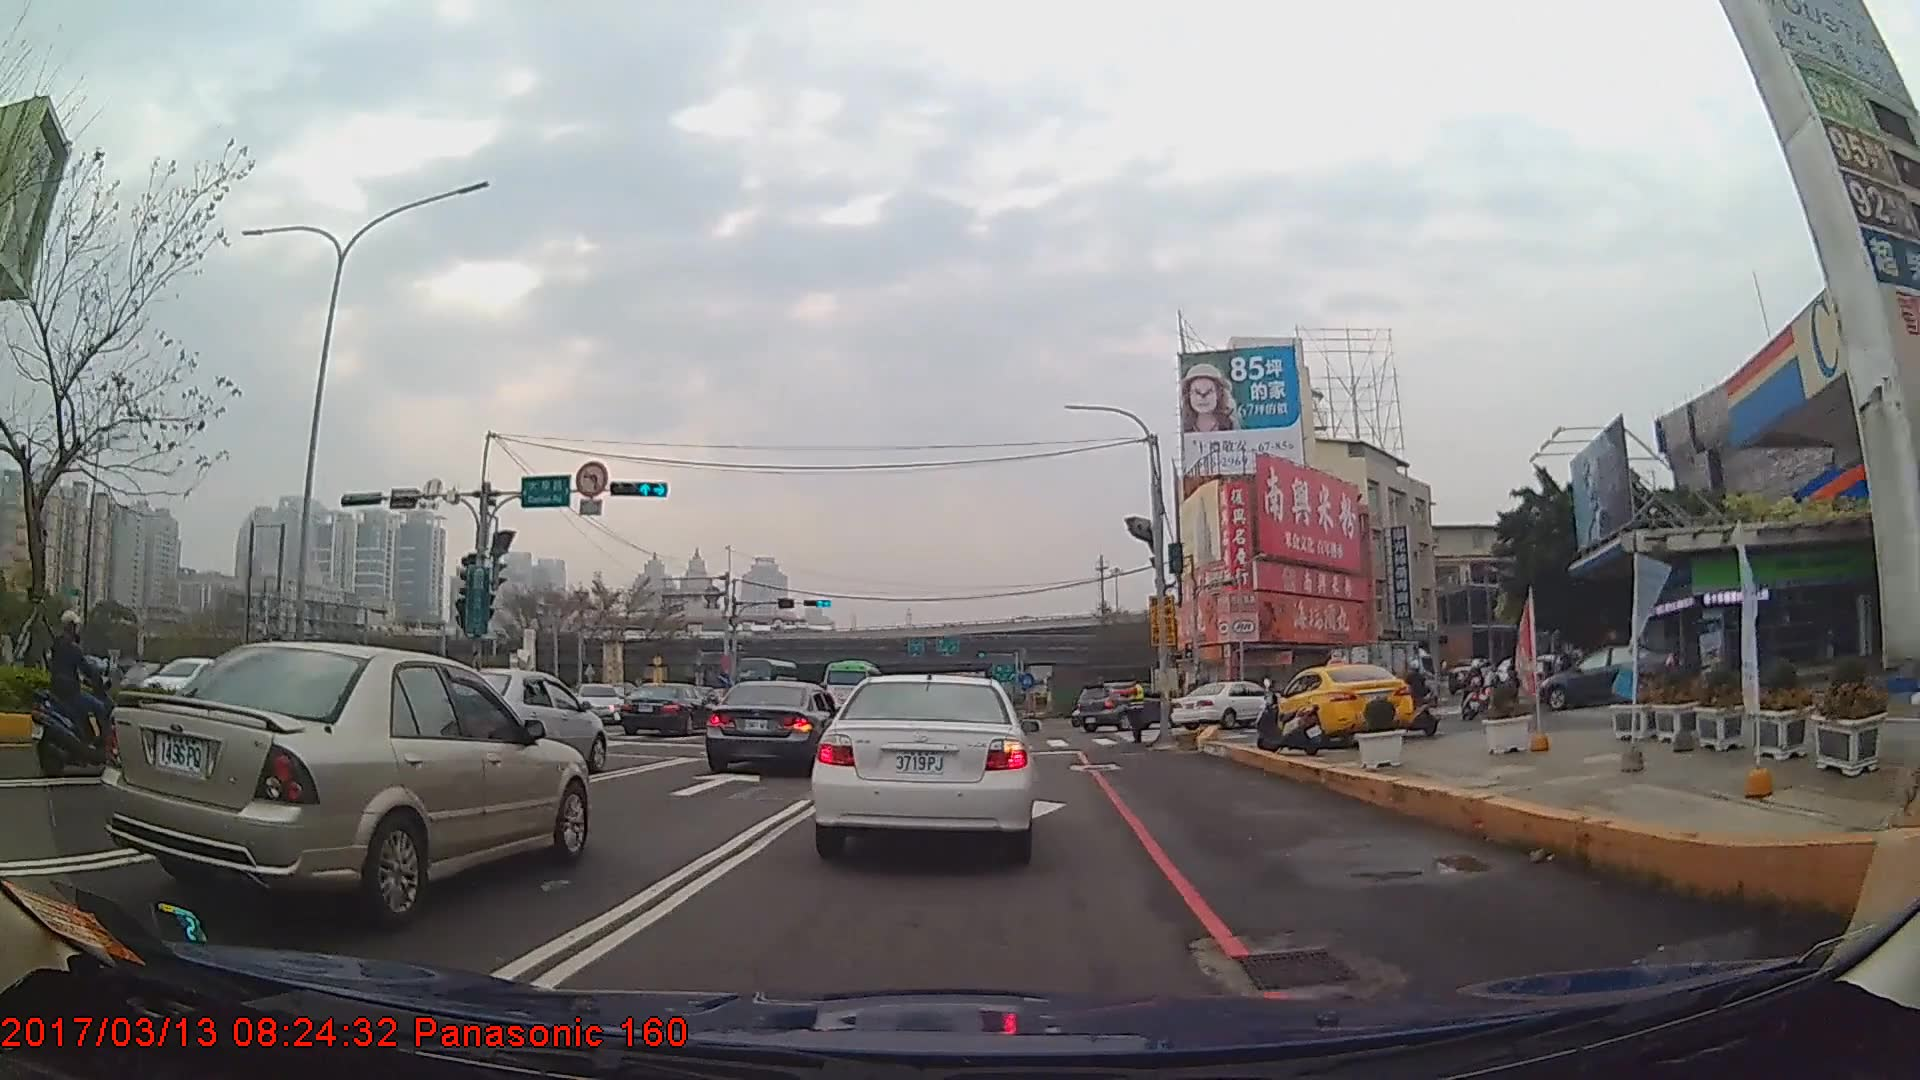pedestrian: (1110, 675, 1148, 745)
rider: (30, 613, 128, 779), (1397, 662, 1440, 740), (1461, 658, 1486, 720)
vehicle: (105, 640, 592, 922), (809, 668, 1035, 861), (421, 668, 607, 776), (701, 678, 843, 778), (1268, 660, 1415, 747), (1536, 644, 1677, 710), (1322, 640, 1439, 710), (1074, 680, 1184, 731), (1170, 680, 1281, 730), (619, 682, 713, 736), (821, 657, 884, 714)
